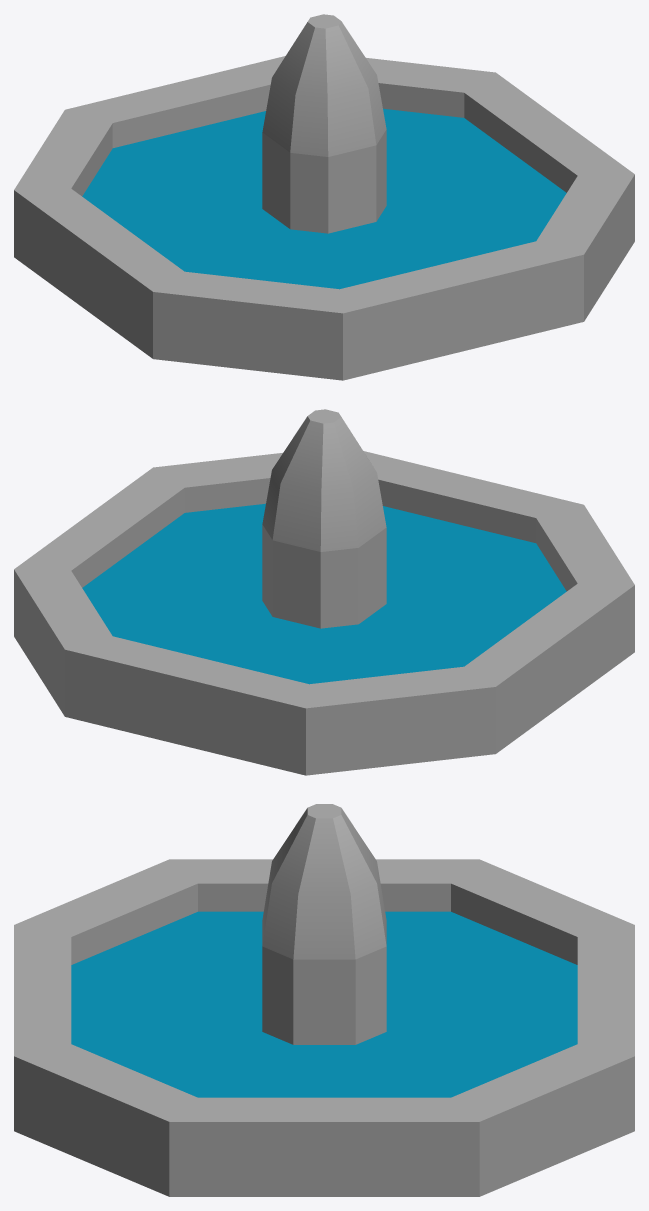
File: Fountain.fbx
The picture shows the model from 3 angles, top to bottom: view 1: azimuth 30°, elevation 25°; view 2: azimuth 150°, elevation 25°; view 3: azimuth 270°, elevation 25°; orthographic projection. The views are drawn at different scales.
Parts seen in each view (by area): view 1: Fountain; view 2: Fountain; view 3: Fountain.
Boxes of the visible parts, x1,y1,x2,y2 form: Fountain: (14, 14, 634, 380); Fountain: (14, 409, 634, 775); Fountain: (14, 804, 634, 1196).
Bounding box in the file's own units: 616 × 278 × 616.
